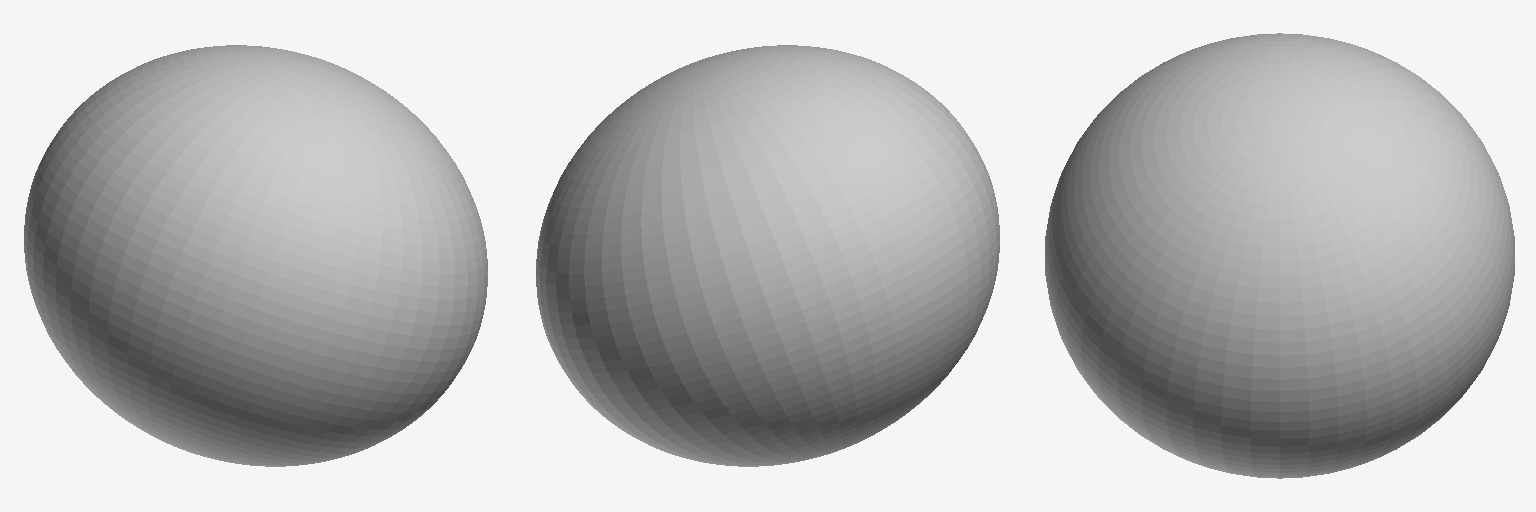
The model's file is Earth.obj.
3 views of the same model, side by side, from view 1: azimuth 30°, elevation 25°; view 2: azimuth 150°, elevation 25°; view 3: azimuth 270°, elevation 25° (orthographic).
Visible parts, largest first — view 1: pSphere4; view 2: pSphere4; view 3: pSphere4.
Part boxes in pixels (bbox=[...]): pSphere4: bbox=[24, 45, 487, 466]; pSphere4: bbox=[536, 45, 999, 466]; pSphere4: bbox=[1045, 33, 1514, 478].
Size of the model in its own units: 2.16 by 1.97 by 2.2.